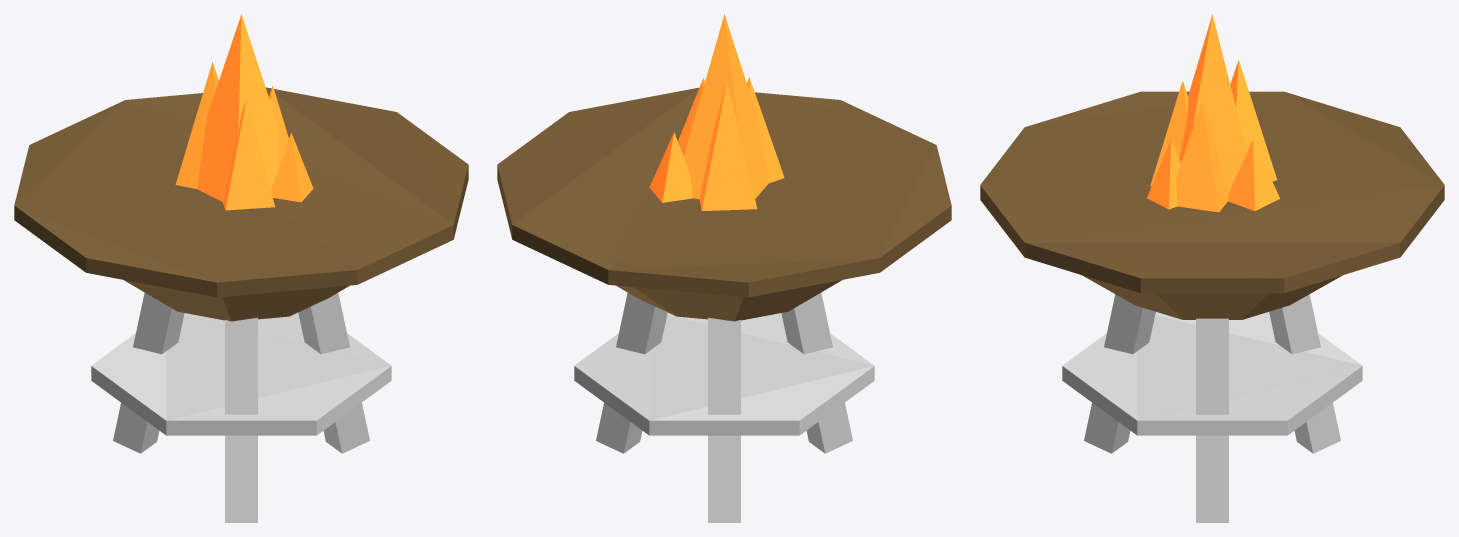
Rendered from Brazier_Bowl.fbx.
3 views of the same model, side by side, from view 1: azimuth 30°, elevation 25°; view 2: azimuth 150°, elevation 25°; view 3: azimuth 270°, elevation 25° (orthographic).
Visible parts, largest first — view 1: Brazier_Bowl; view 2: Brazier_Bowl; view 3: Brazier_Bowl.
Part boxes in pixels (bbox=[...]): Brazier_Bowl: bbox=[14, 14, 468, 522]; Brazier_Bowl: bbox=[497, 14, 951, 522]; Brazier_Bowl: bbox=[980, 14, 1444, 522].
Size of the model in its own units: 1.62 by 1.84 by 1.7.
